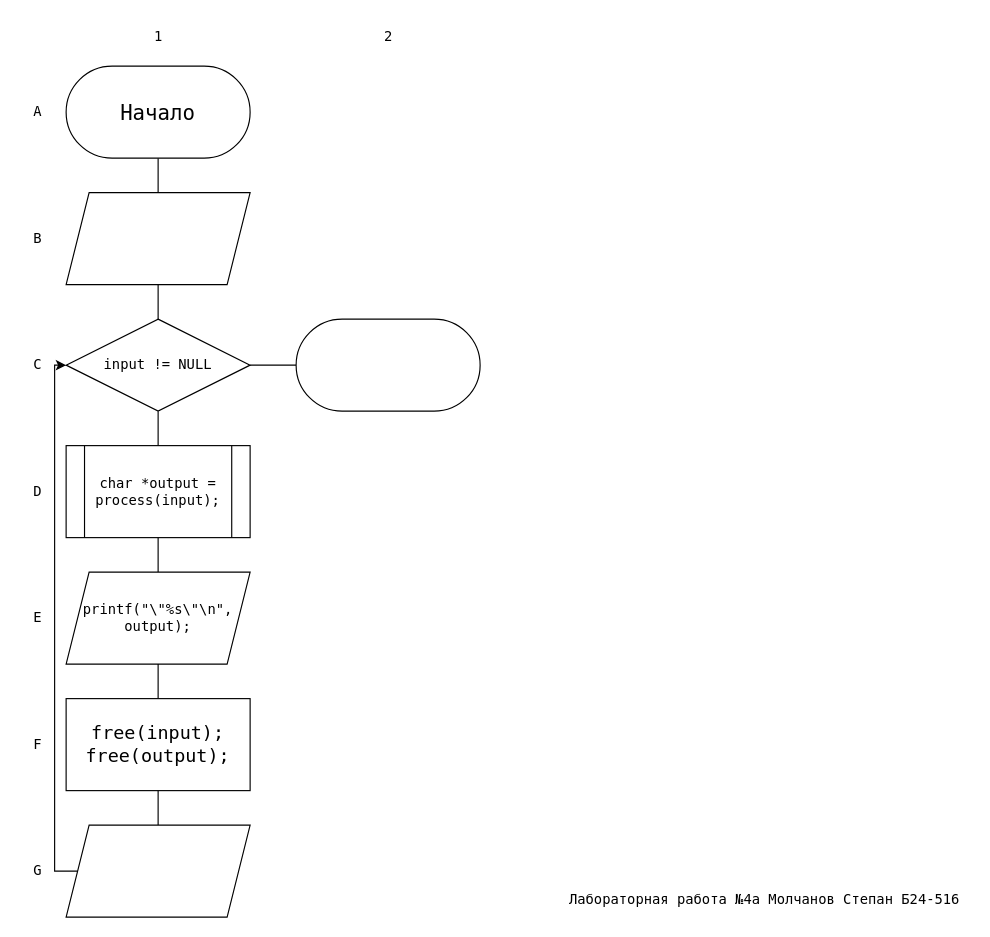
Some shapes in this 990 by 937 pixel diagram are drawn without their labels. The centre of each missing label's shape, as x and y in pixels:
"char *input = readline(PROMPT);" belongs at (x=157, y=238).
"input = readline(PROMPT);" belongs at (x=157, y=870).
"Конец" belongs at (x=387, y=364).
